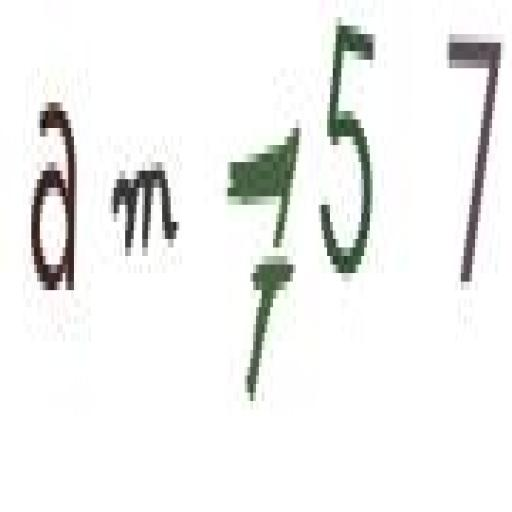5: (320, 0, 388, 294)
7: (223, 120, 307, 430), (440, 11, 506, 312)
a: (24, 78, 82, 309)
m: (105, 152, 181, 271)
